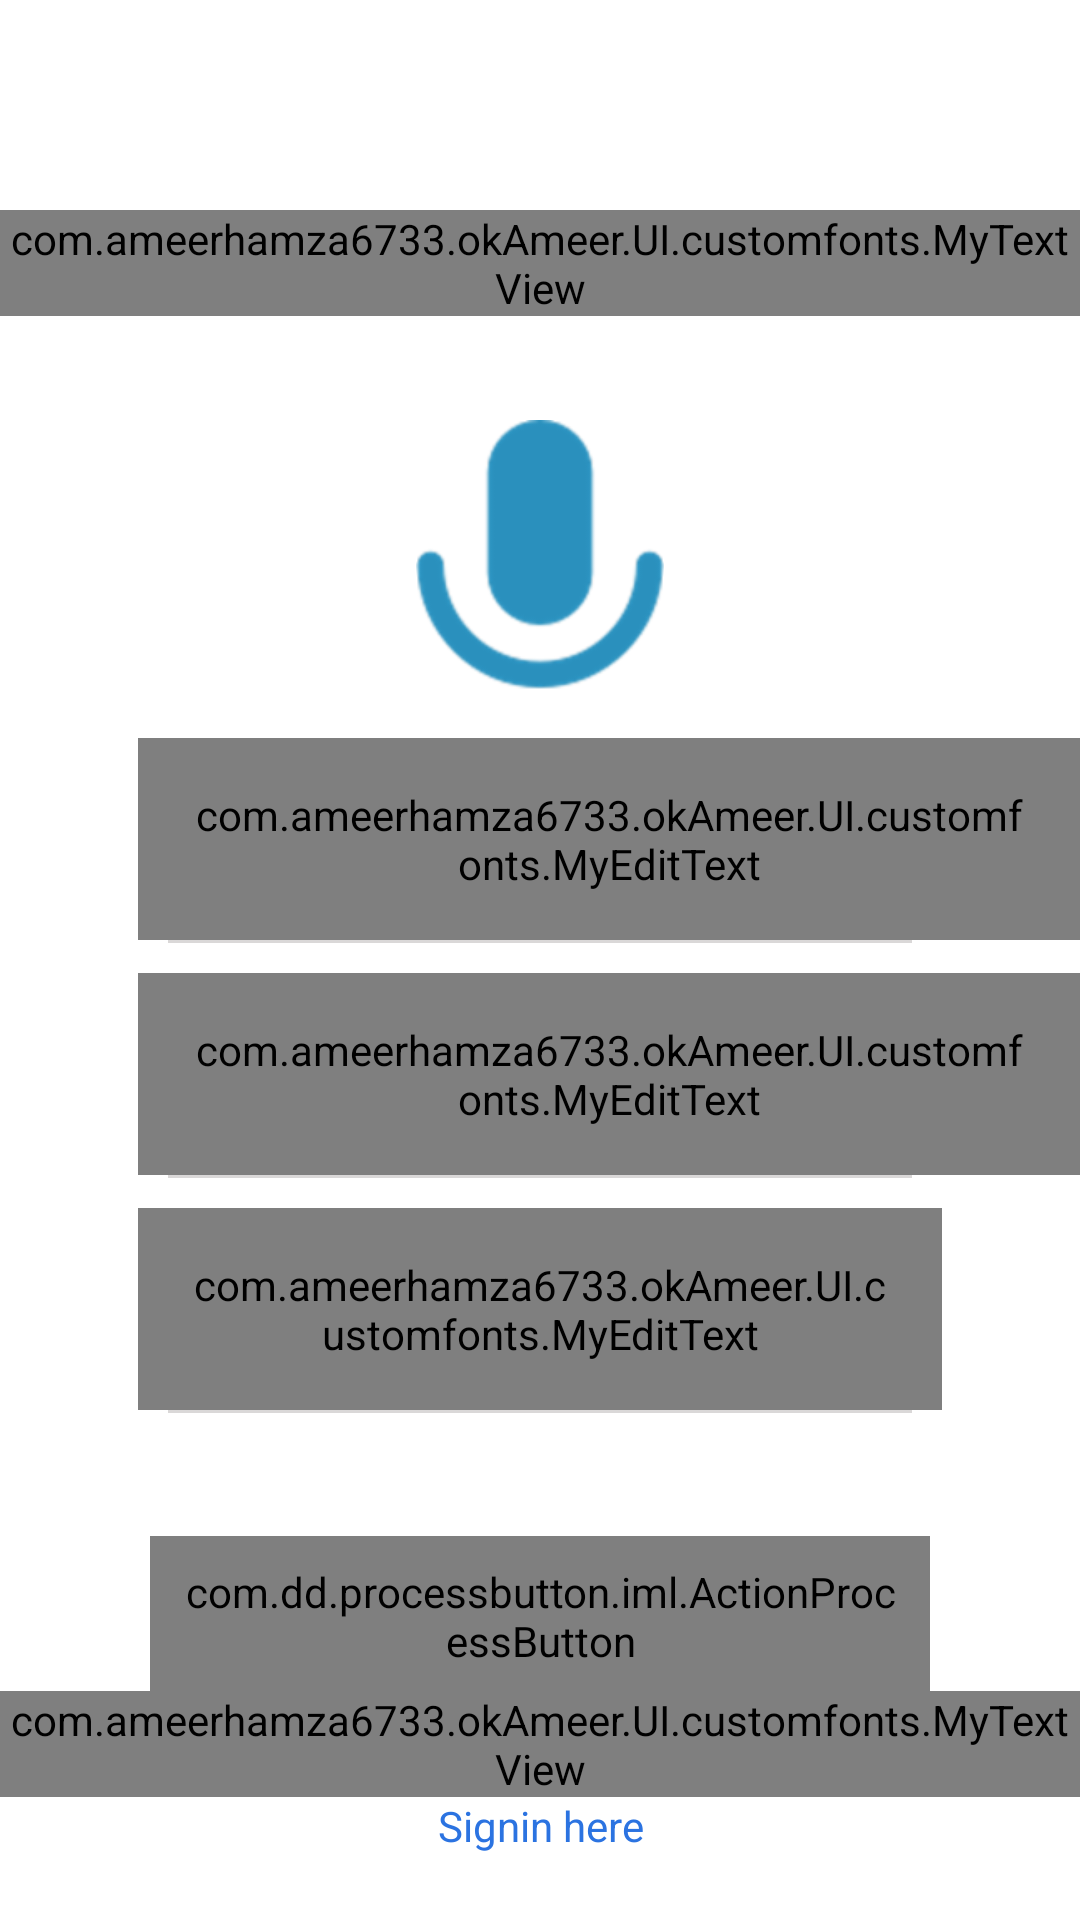

Point at icon controls on the screen. Image size 1080 × 1920, points as (x,y).
caller id mic: (540,554)
